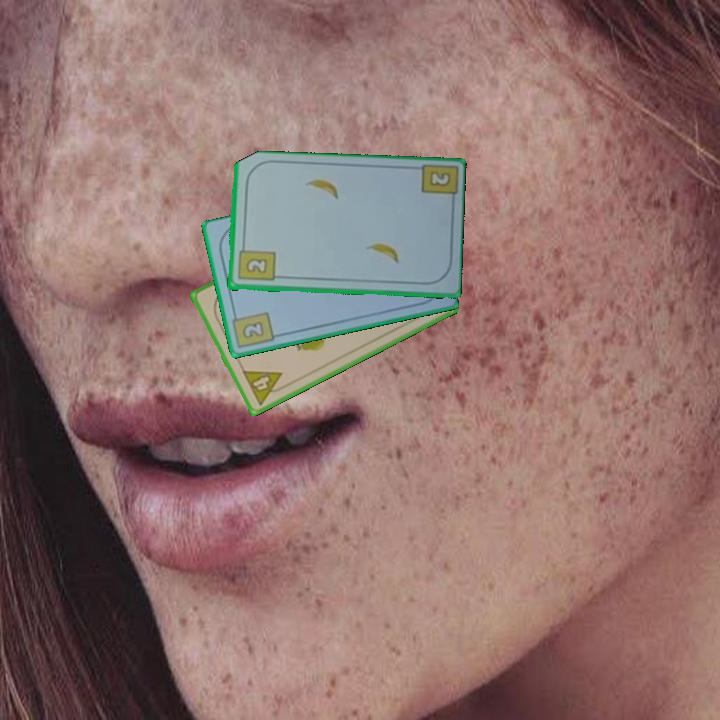2b: (229, 307, 277, 351), (234, 241, 277, 284), (426, 168, 454, 189)
4p: (239, 367, 291, 408)
